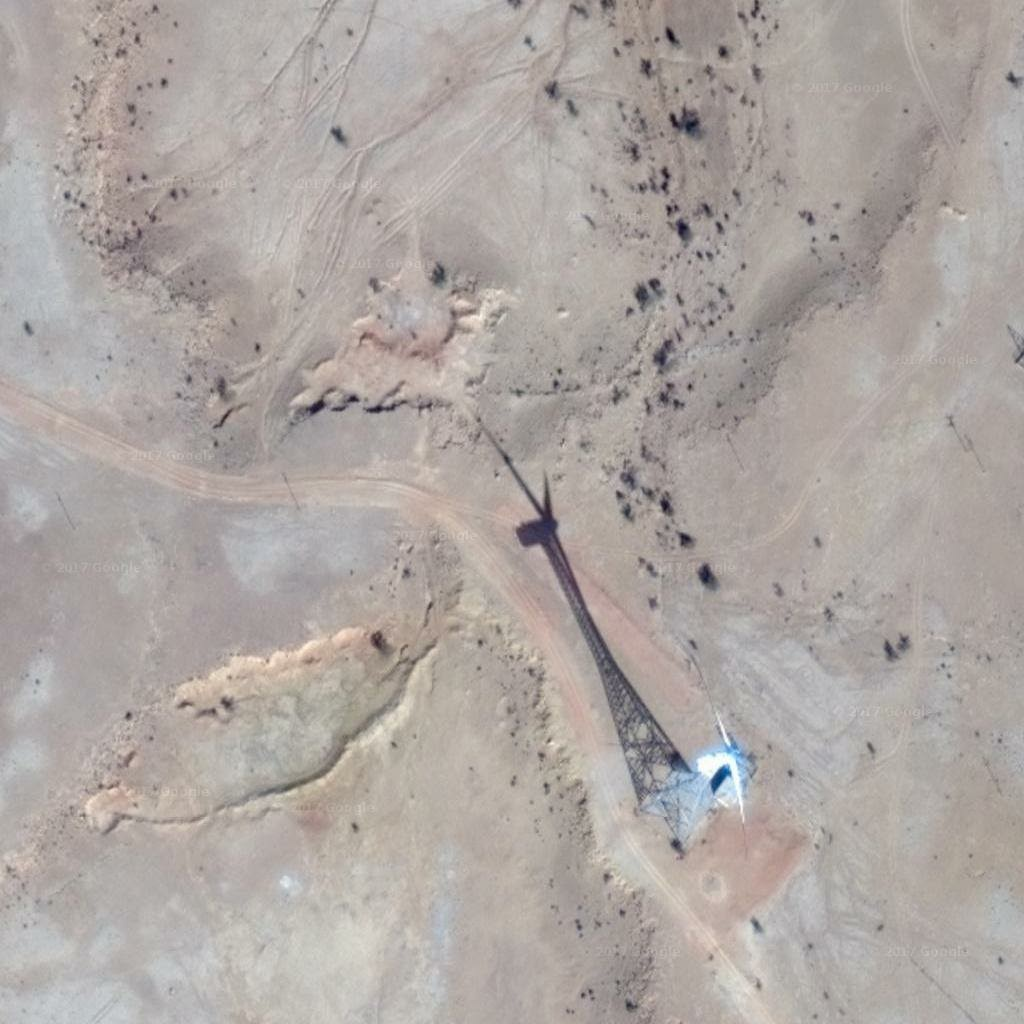Windmill: (484, 429, 665, 730)
